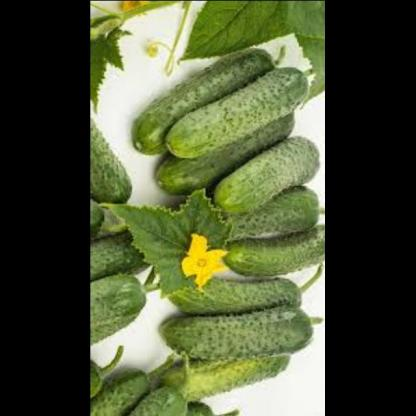cucumber: (120, 40, 280, 162), (163, 58, 315, 162), (140, 115, 296, 196), (186, 178, 324, 250), (159, 300, 321, 361), (149, 346, 305, 408), (220, 132, 326, 208), (92, 256, 168, 360), (215, 219, 326, 283), (166, 272, 317, 316), (91, 214, 174, 276), (92, 370, 202, 416), (91, 122, 144, 216)
